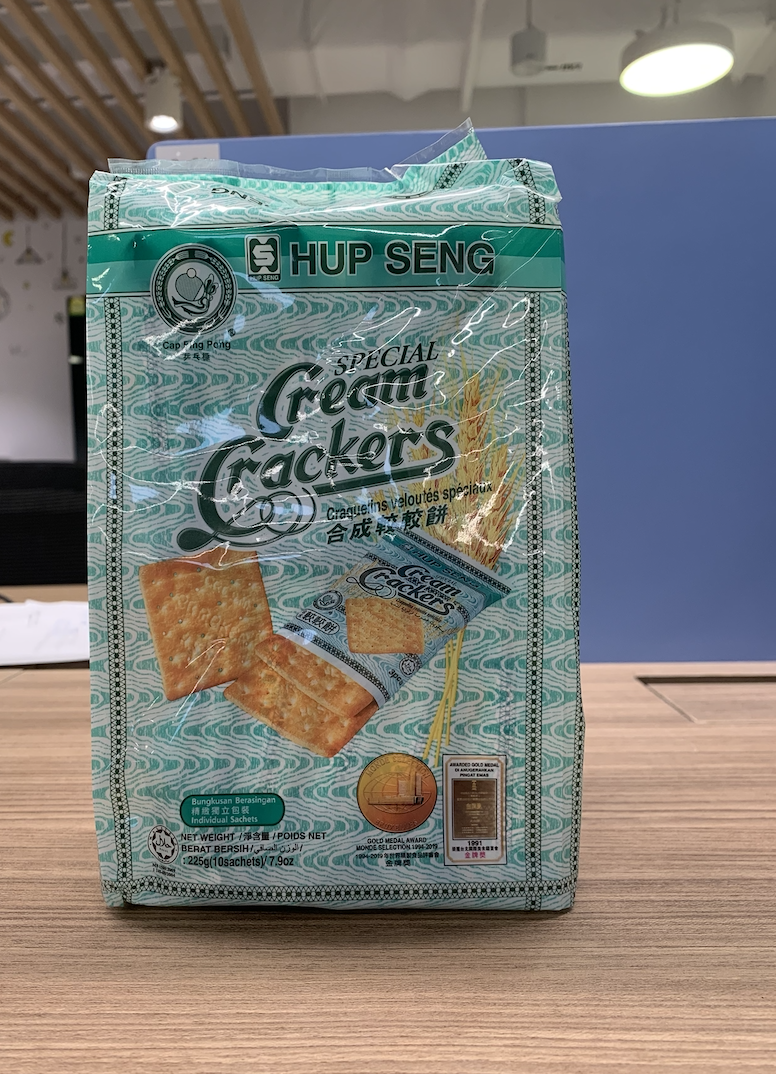crackers_200g-299g: (94, 174, 580, 907)
